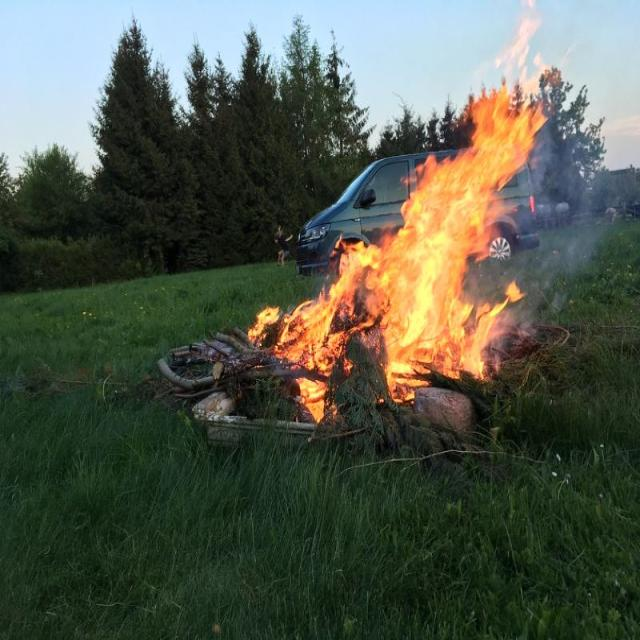fire: (258, 291, 502, 423), (333, 173, 492, 290), (457, 56, 542, 170)
